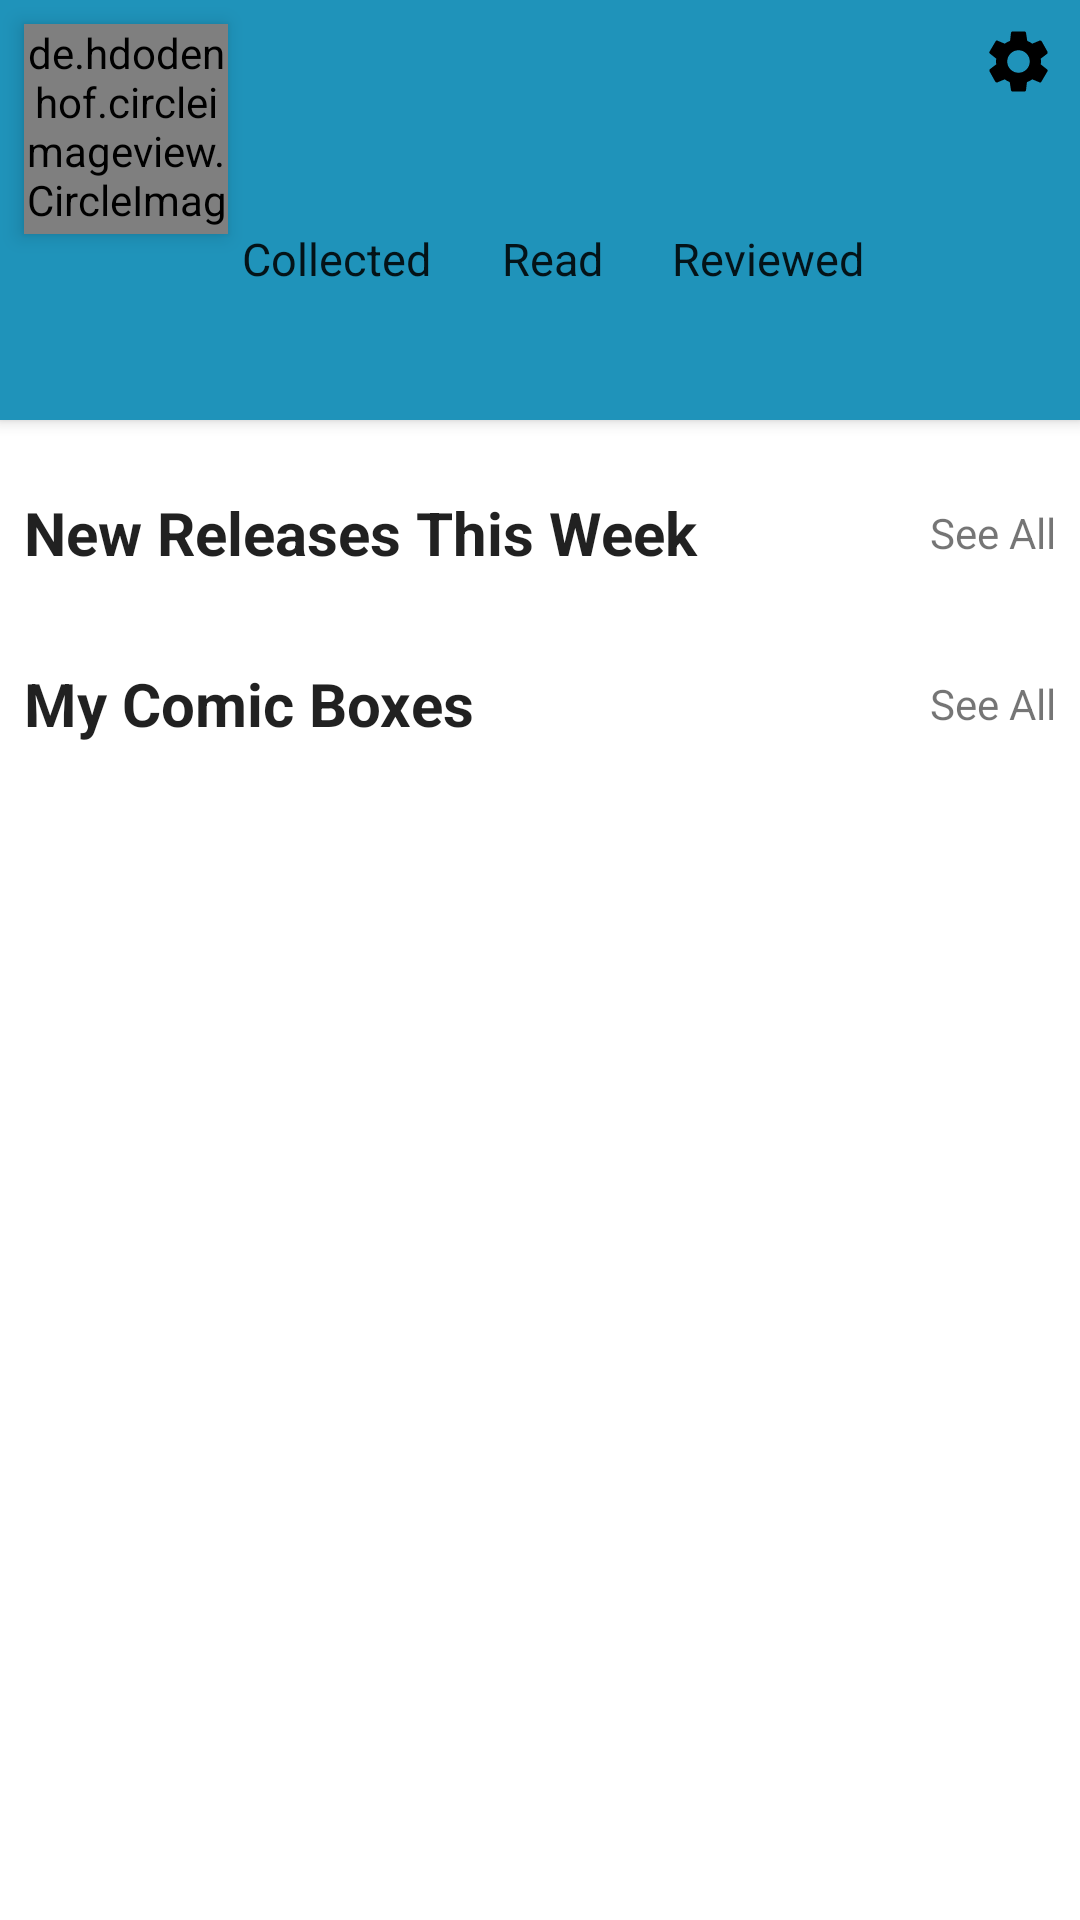

Named icons in this screenshot (1080×1920) and their bounding boxes, (x1, y1, x2, y2):
Open Settings: (989, 31, 1048, 92)
